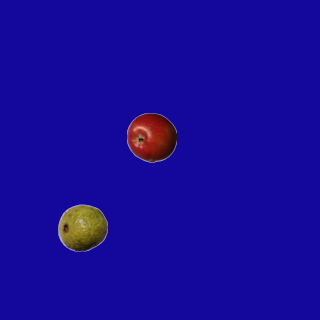Apple Braeburn: (126, 112, 176, 162)
Guava: (57, 202, 107, 252)
